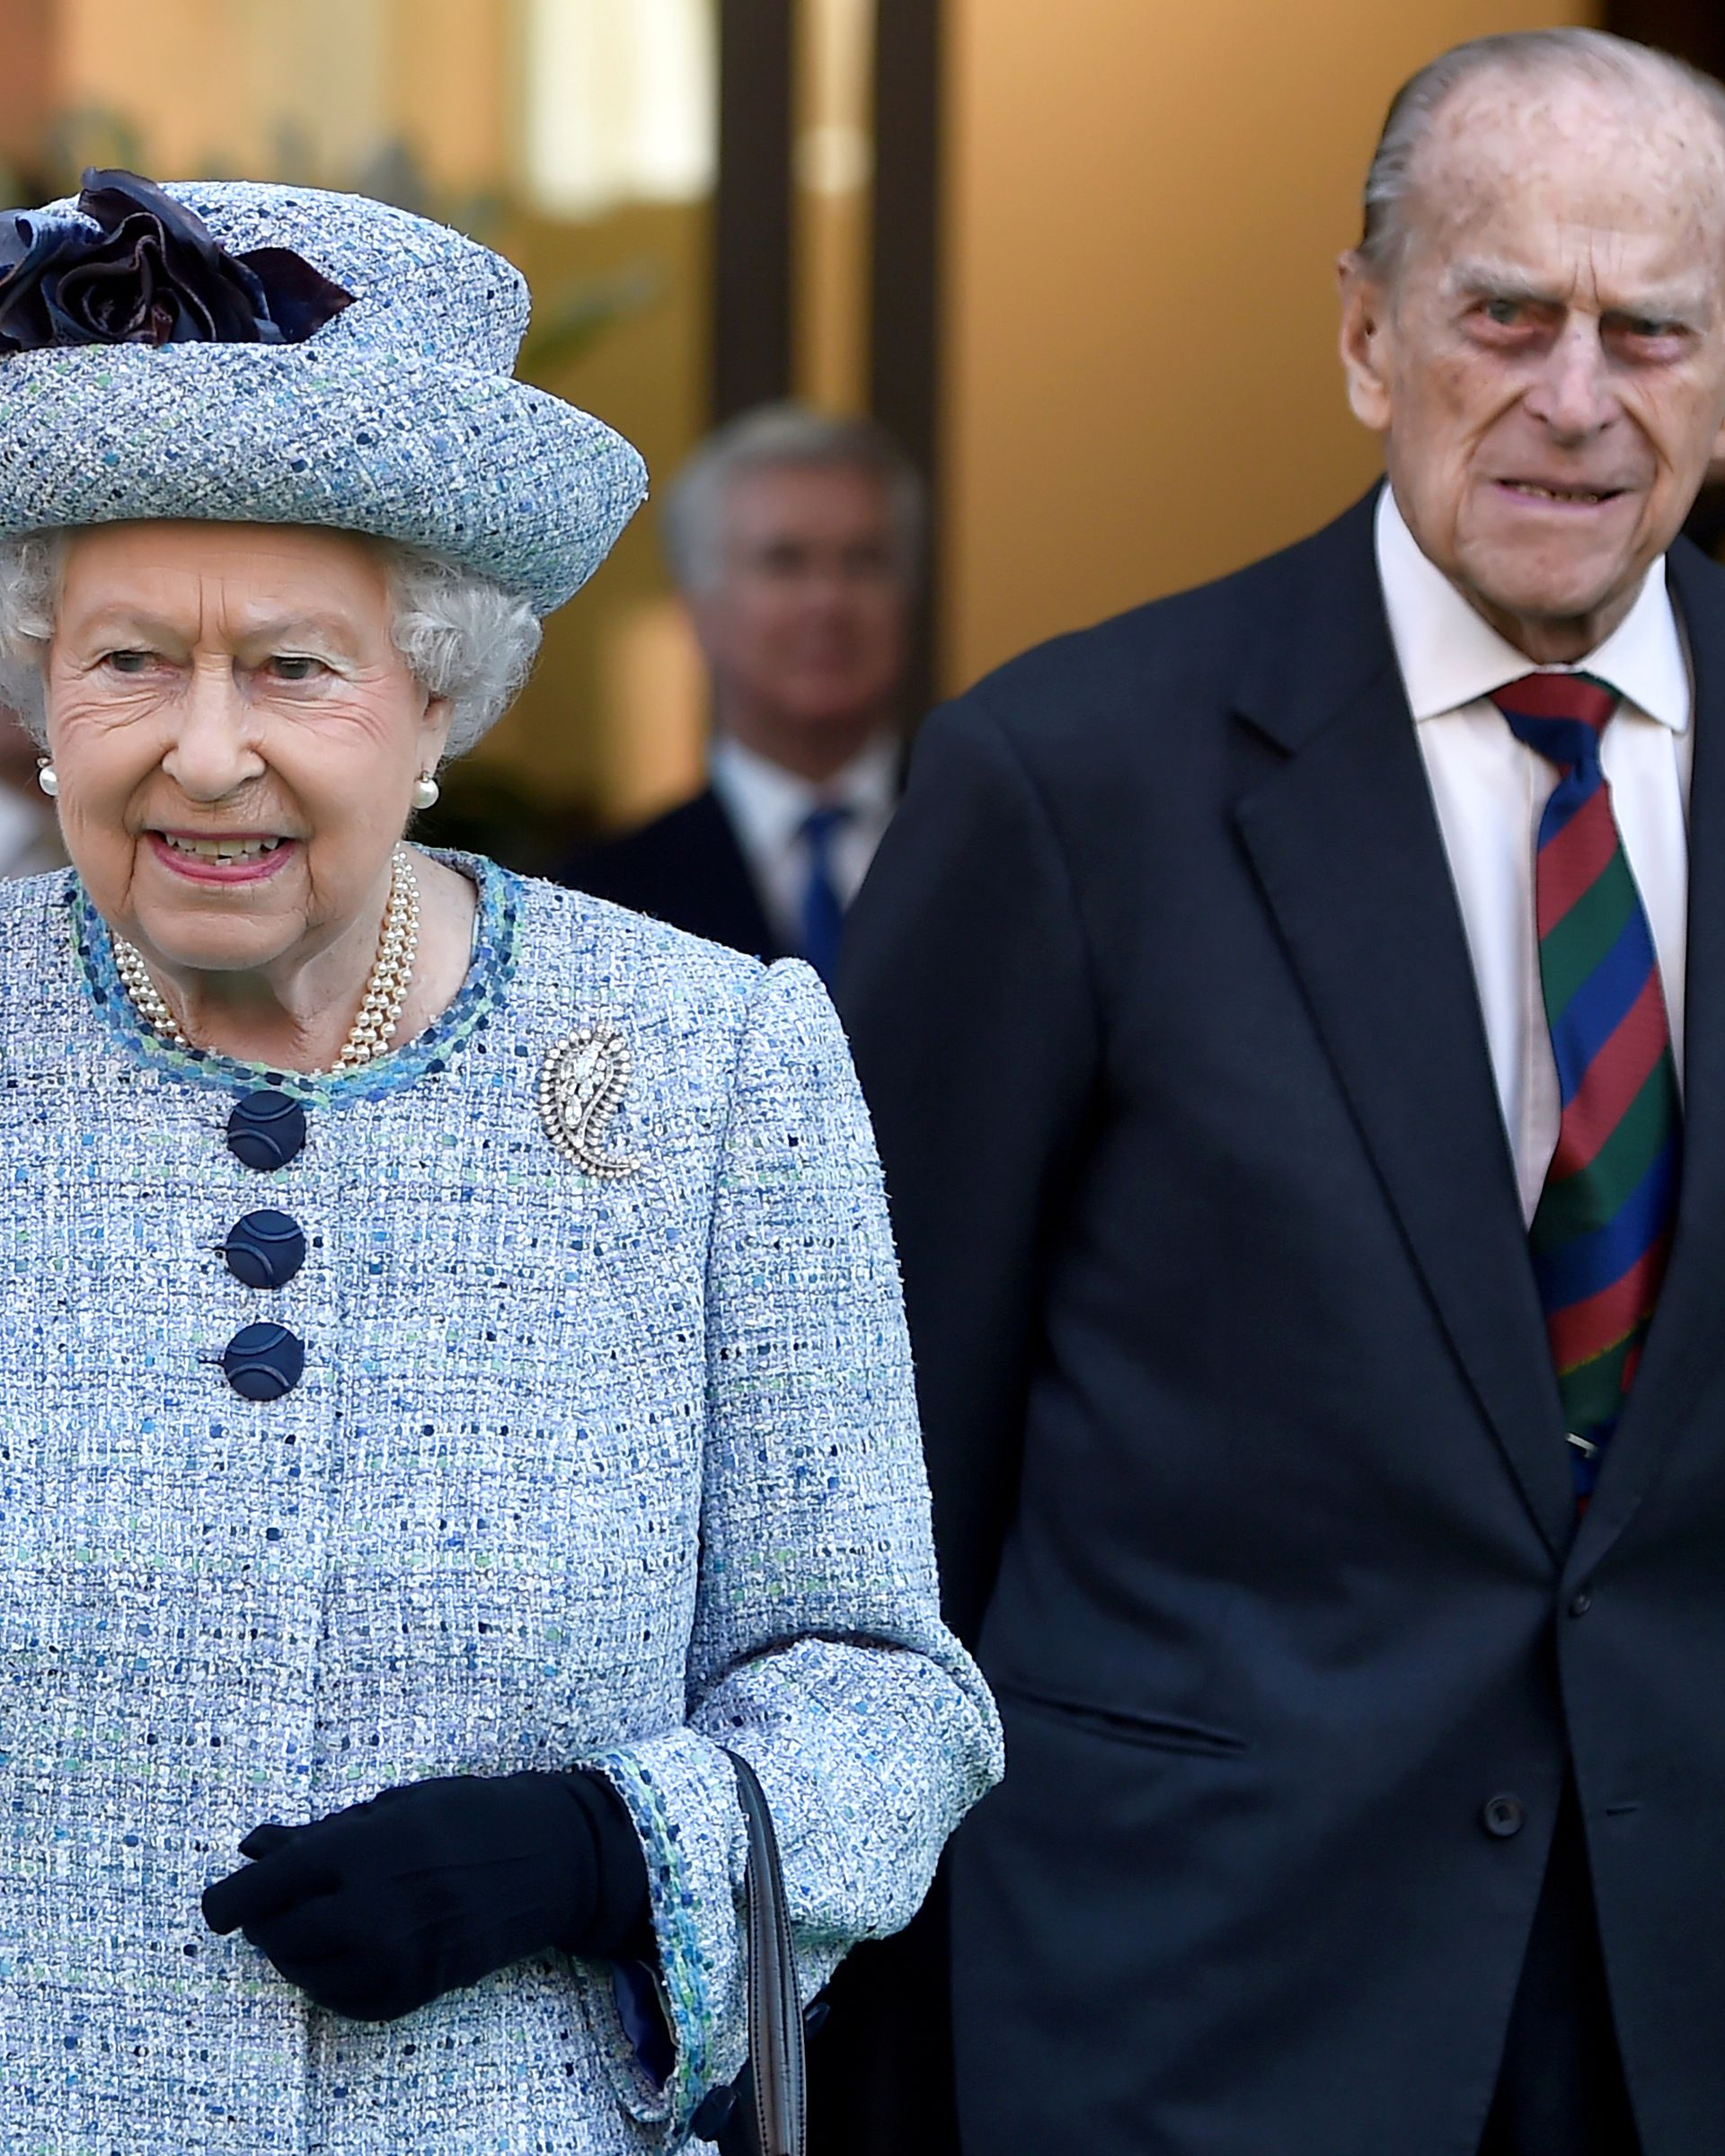without_mask: (67, 555, 411, 940), (1411, 234, 1709, 576)
